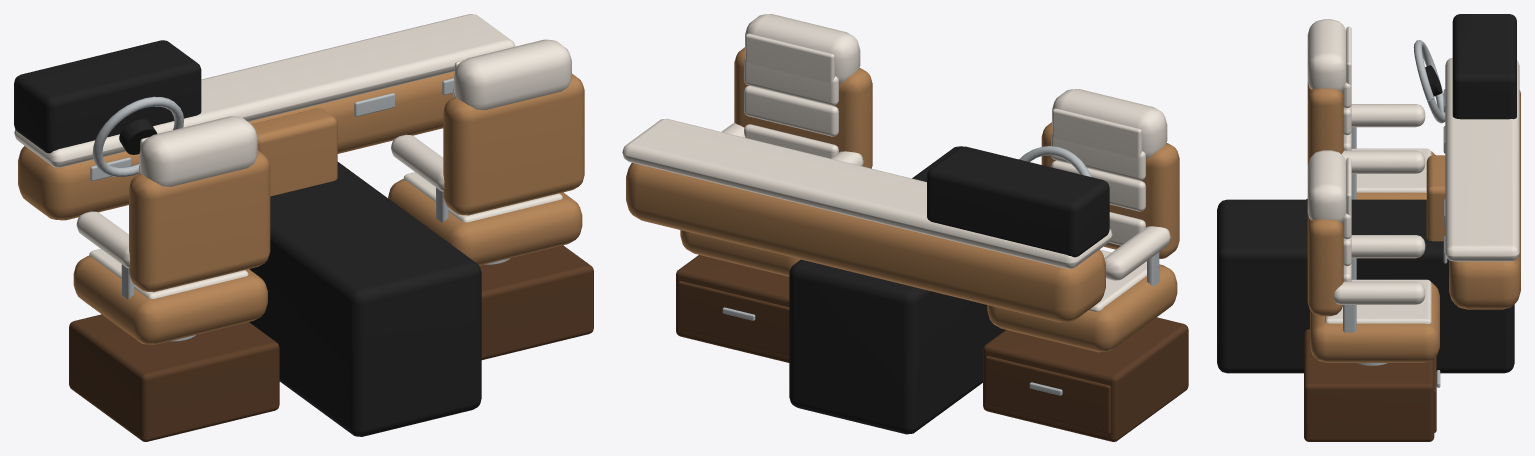
The model's file is cab.glb.
The picture shows the model from 3 angles, left to right: view 1: azimuth 30°, elevation 25°; view 2: azimuth 150°, elevation 25°; view 3: azimuth 270°, elevation 25°; orthographic projection. The views are drawn at different scales.
Visible parts, largest first — view 1: cab_details, cab_seat_off, cab_seat_kerb; view 2: cab_details, cab_seat_off, cab_seat_kerb; view 3: cab_details, cab_seat_kerb, cab_seat_off.
Part boxes in pixels (x1,y1,x2,y2): cab_details: (14,14,515,436); cab_seat_off: (69,116,279,441); cab_seat_kerb: (388,39,593,359); cab_details: (622,118,1112,434); cab_seat_off: (983,89,1188,441); cab_seat_kerb: (676,14,872,362); cab_details: (1217,14,1520,373); cab_seat_kerb: (1304,150,1440,441); cab_seat_off: (1306,19,1435,199).
Bounding box in the file's own units: 1.86 × 1.1 × 1.22.
